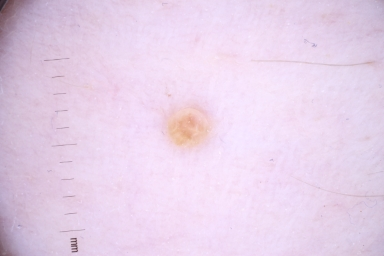melanoma: (161, 106, 206, 151)
